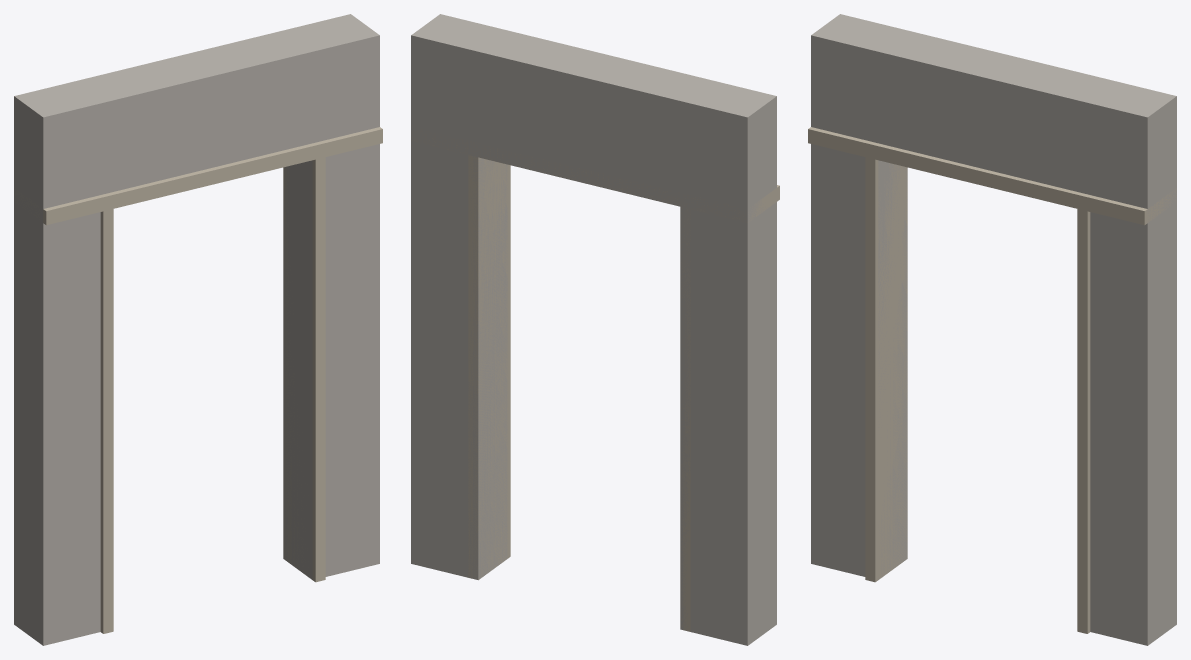
File: doorway.glb
3 views of the same model, side by side, from view 1: azimuth 30°, elevation 25°; view 2: azimuth 150°, elevation 25°; view 3: azimuth 330°, elevation 25° (orthographic).
Visible parts, largest first — view 1: Doorway, DoorwayTrim; view 2: Doorway, DoorwayTrim; view 3: Doorway, DoorwayTrim.
Part boxes in pixels (left/top/right/bottom): Doorway: left=14, top=14, right=379, bottom=645; DoorwayTrim: left=14, top=127, right=382, bottom=633; Doorway: left=411, top=14, right=776, bottom=645; DoorwayTrim: left=411, top=129, right=779, bottom=631; Doorway: left=811, top=14, right=1176, bottom=645; DoorwayTrim: left=808, top=127, right=1176, bottom=633.
Bounding box in the file's own units: 2 × 3 × 0.33.
